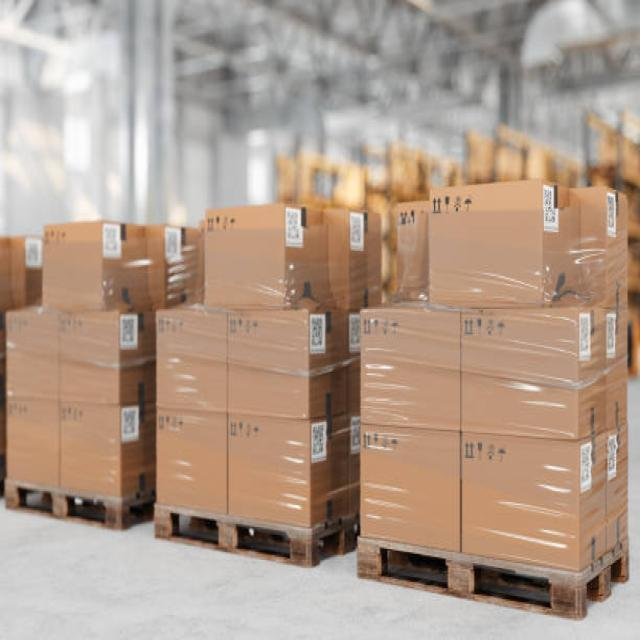Wooden-Pallets: (353, 523, 634, 632), (151, 498, 349, 570), (0, 469, 145, 539)
